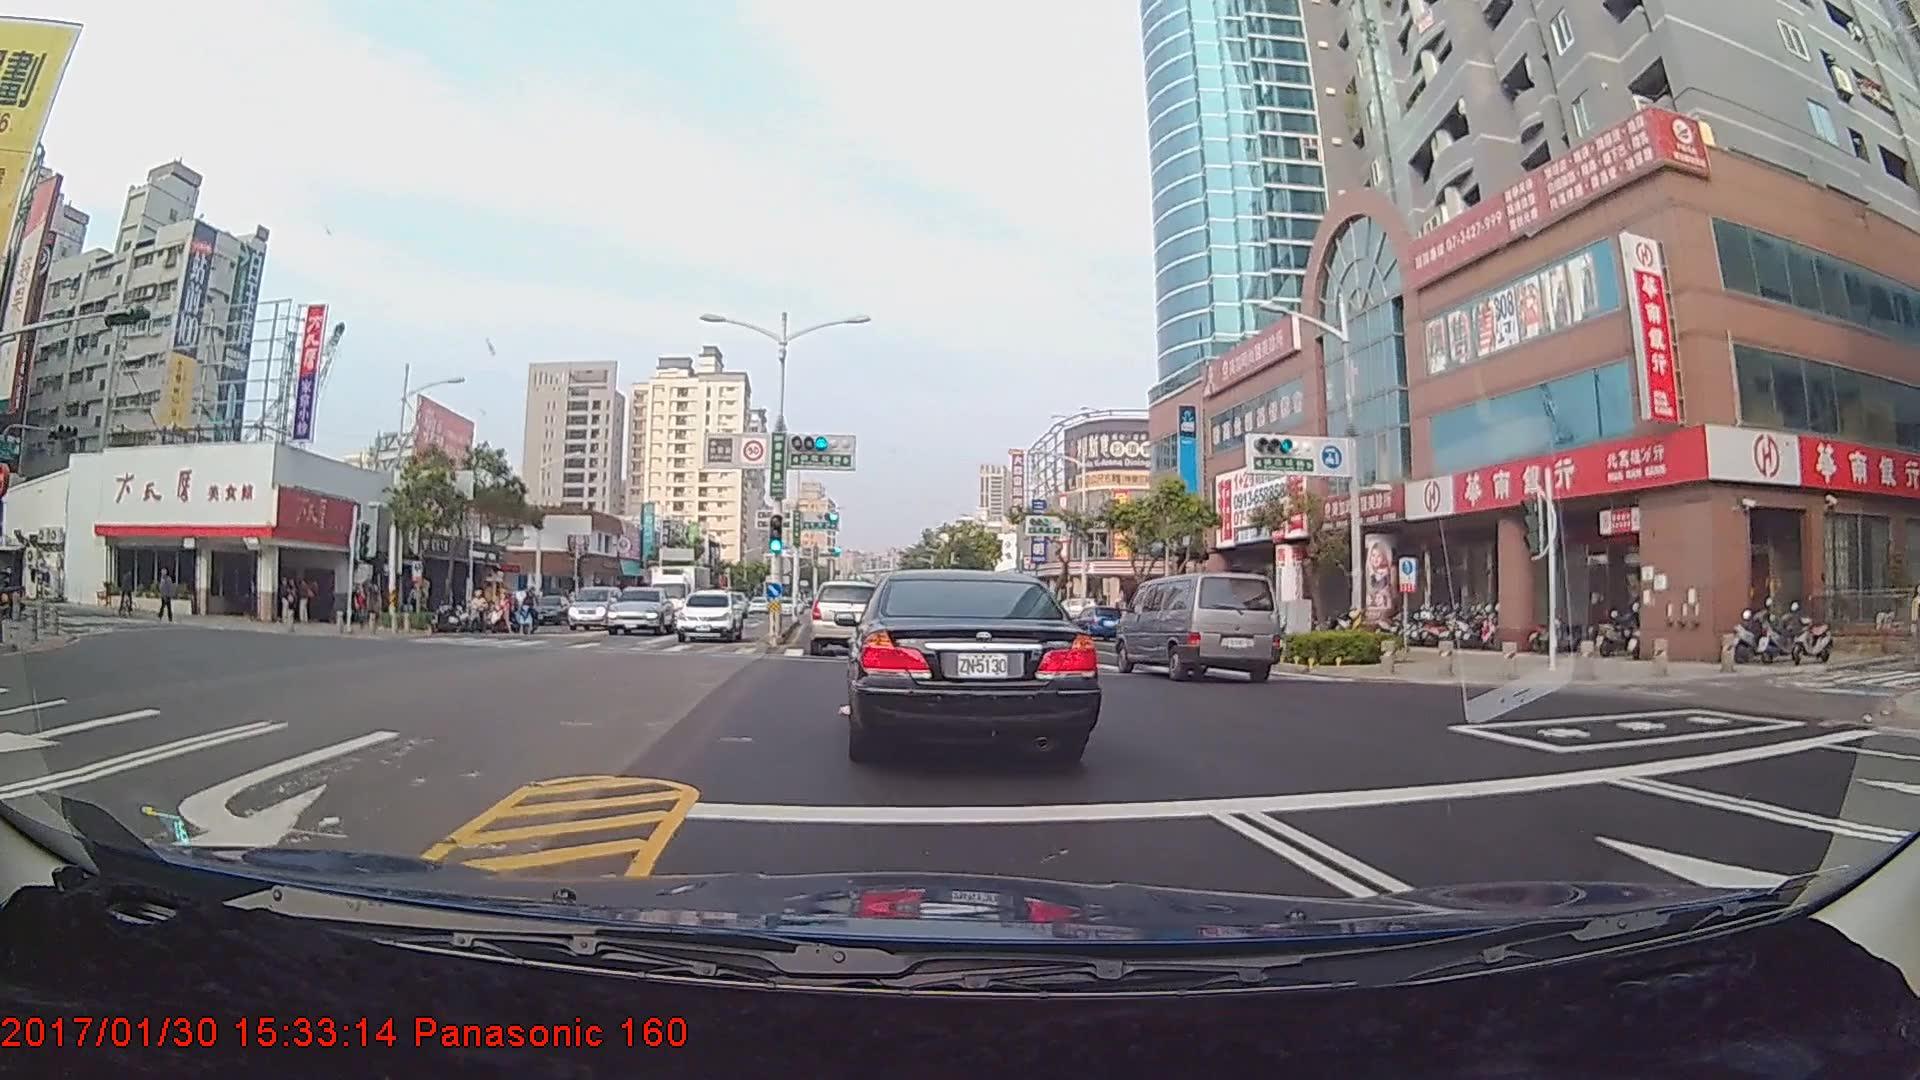pedestrian: (154, 569, 175, 623), (295, 578, 315, 626), (279, 577, 299, 627)
vehicle: (847, 563, 1093, 763), (1119, 569, 1279, 682), (808, 579, 885, 657), (652, 558, 718, 630), (676, 588, 744, 643), (605, 585, 677, 636), (565, 582, 619, 628), (1067, 603, 1119, 643)
